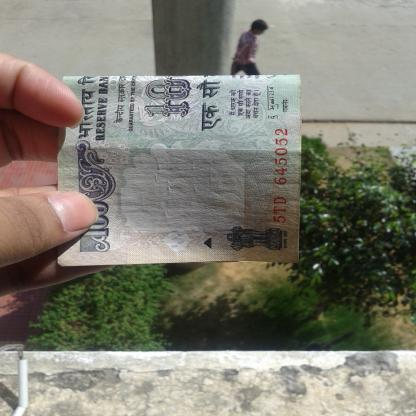Old100Front: (57, 75, 303, 268)
